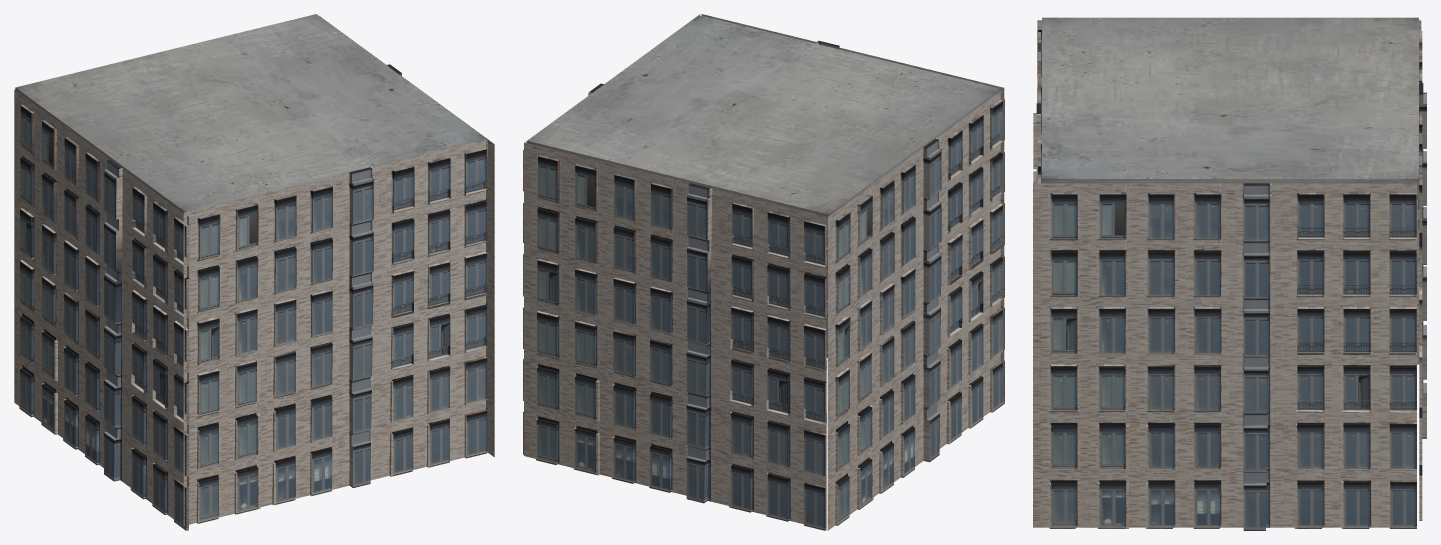
Rendered from Mordern Building1(04-14).FBX.
The picture shows the model from 3 angles, left to right: view 1: azimuth 30°, elevation 25°; view 2: azimuth 150°, elevation 25°; view 3: azimuth 270°, elevation 25°; orthographic projection. The views are drawn at different scales.
Visible parts, largest first — view 1: Plane004, Plane003, Box001, Plane002; view 2: Plane001, Plane003, Box001, Plane004; view 3: Plane002, Box001, Plane001, Plane004, Plane003.
Part boxes in pixels (x1,y1,x2,y2): Plane004: (183, 139, 487, 525); Plane003: (14, 89, 189, 530); Box001: (15, 14, 487, 212); Plane002: (320, 16, 494, 457); Plane001: (524, 142, 826, 530); Plane003: (827, 91, 1004, 530); Box001: (527, 15, 1000, 232); Plane004: (701, 14, 1004, 400); Plane002: (1033, 183, 1416, 530); Box001: (1042, 17, 1418, 199); Plane001: (1418, 31, 1426, 520); Plane004: (1033, 32, 1041, 183); Plane003: (1037, 20, 1421, 364).
Bounding box in the file's own units: 176 × 169 × 173.
